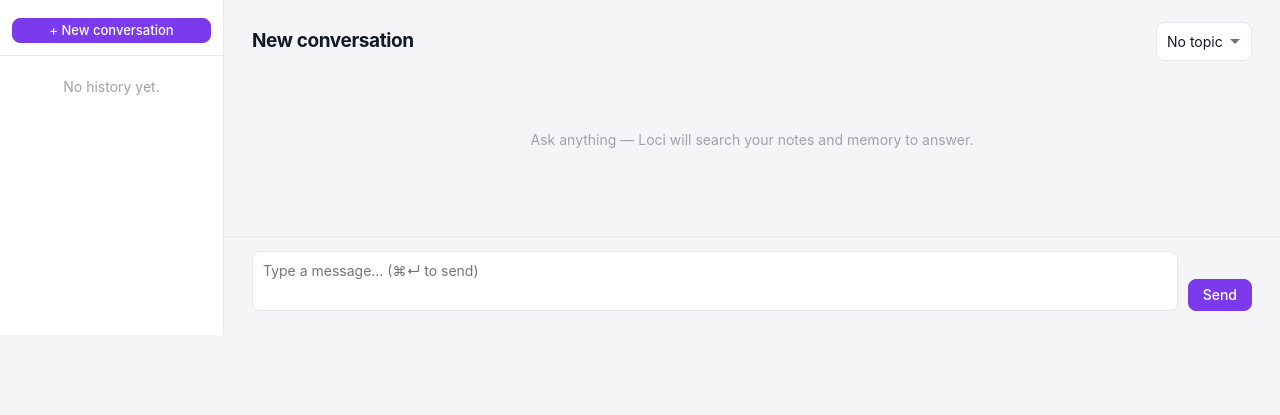
Test case: Ask › sends a message and renders the user text and rendered assistant reply
Type "Tell me about bees" into the text box with placeholder "Type a message… (⌘↵ to send)".
click(715, 281); type("Tell me about bees")  # box x1=252 y1=251 x2=1178 y2=311
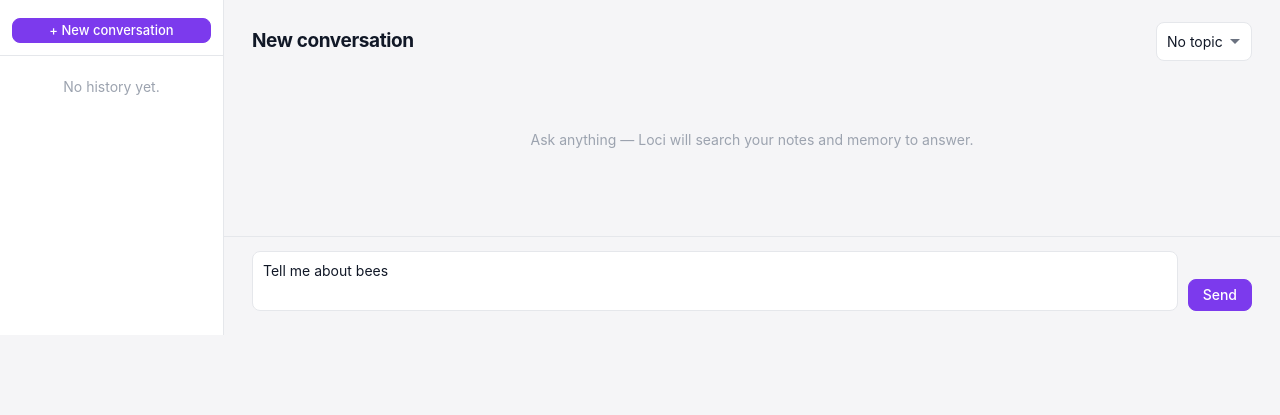
Click the button "Send".
click(1220, 295)  # box x1=1188 y1=279 x2=1252 y2=311
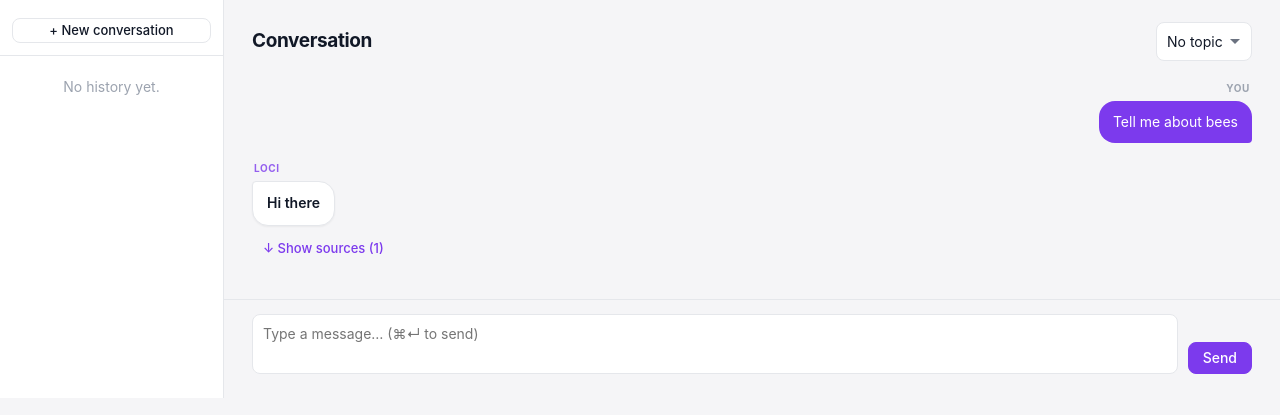
Check: the text "Tell me about bees" is shown, box x1=1099 y1=101 x2=1252 y2=143
Check: the text "Hi there" is shown, box x1=267 y1=194 x2=320 y2=211
